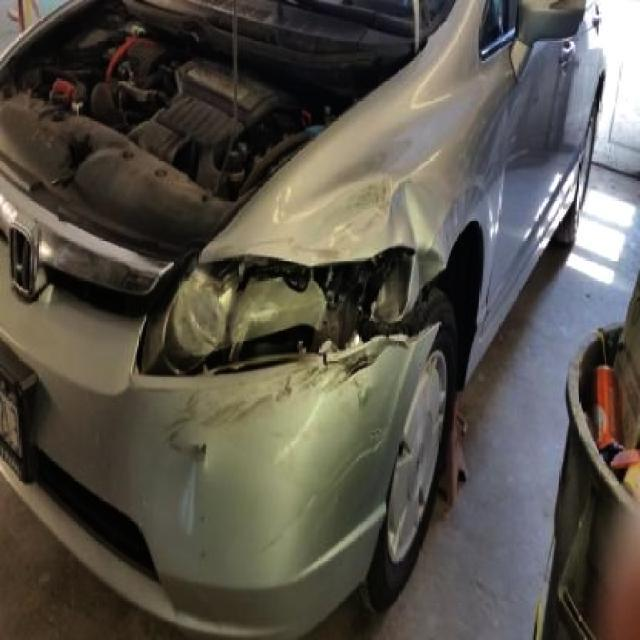minor: (354, 372, 369, 406)
moderate: (203, 109, 462, 265), (145, 251, 412, 372), (198, 357, 346, 431)
